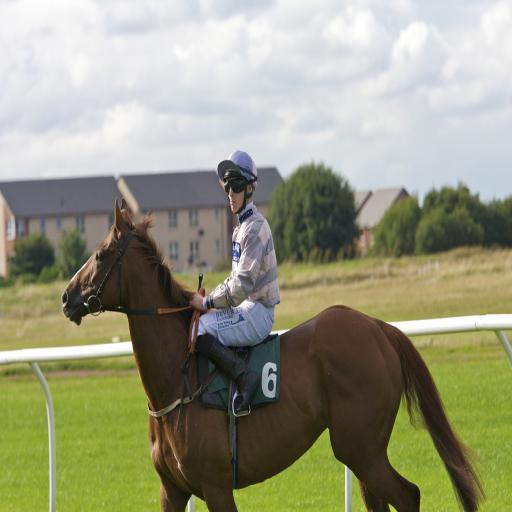Horse: (62, 196, 485, 511)
